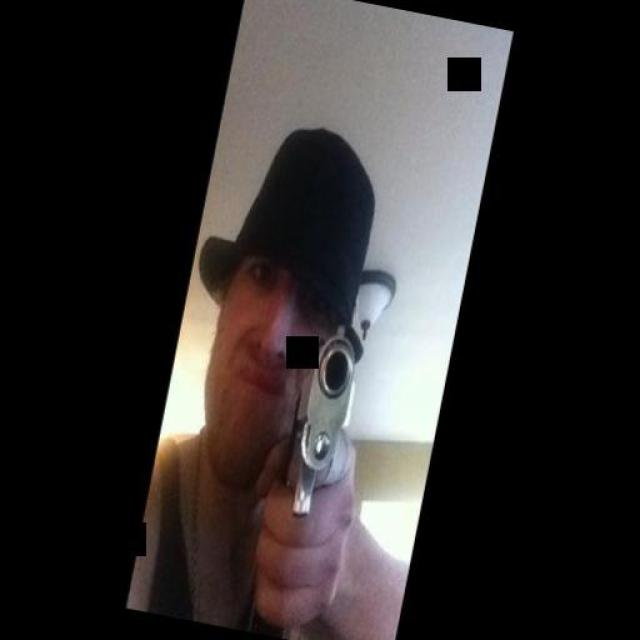gun: (268, 314, 364, 528)
